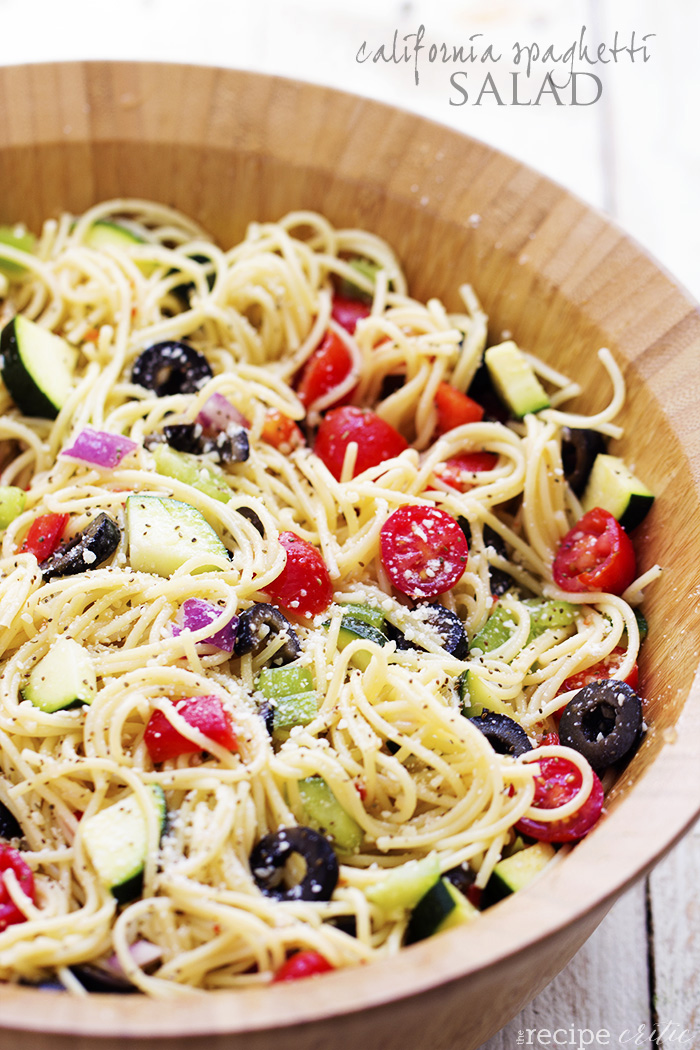plain spaghetti: (13, 228, 540, 934)
